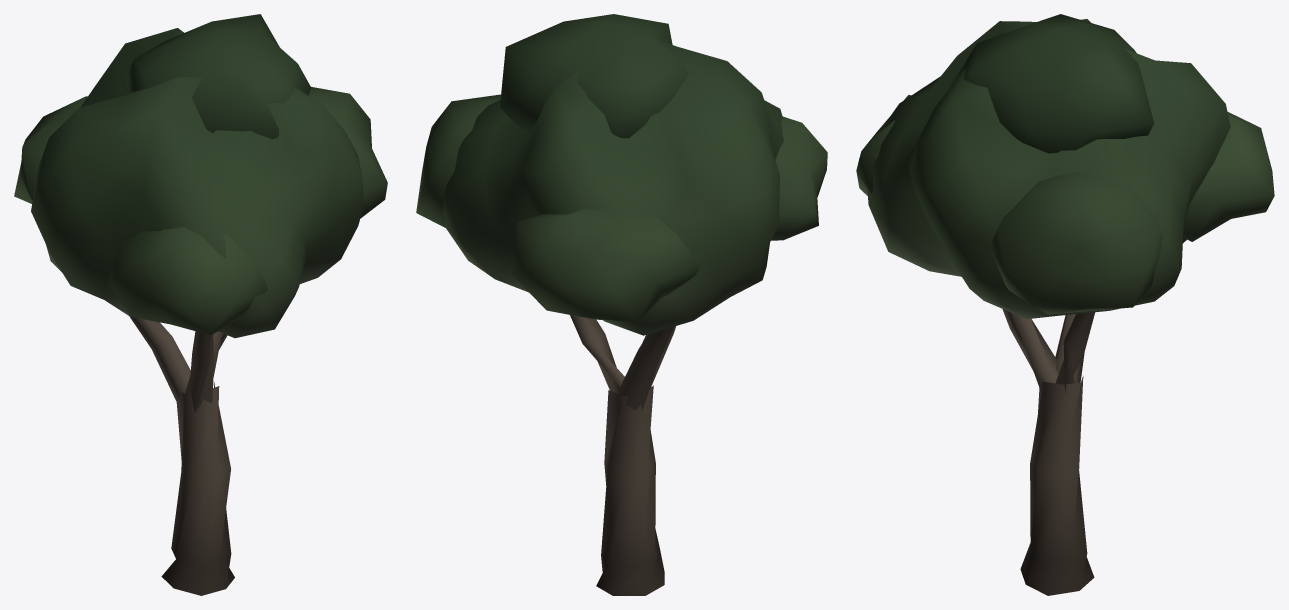
The model's file is oak.glb.
The picture shows the model from 3 angles, left to right: view 1: azimuth 30°, elevation 25°; view 2: azimuth 150°, elevation 25°; view 3: azimuth 270°, elevation 25°; orthographic projection. The views are drawn at different scales.
Parts seen in each view (by area): view 1: oak; view 2: oak; view 3: oak.
Part boxes in pixels (x1,y1,x2,y2): oak: (14,14,387,595); oak: (416,14,827,595); oak: (856,14,1274,595).
Bounding box in the file's own units: 4.6 × 7.28 × 4.9.
